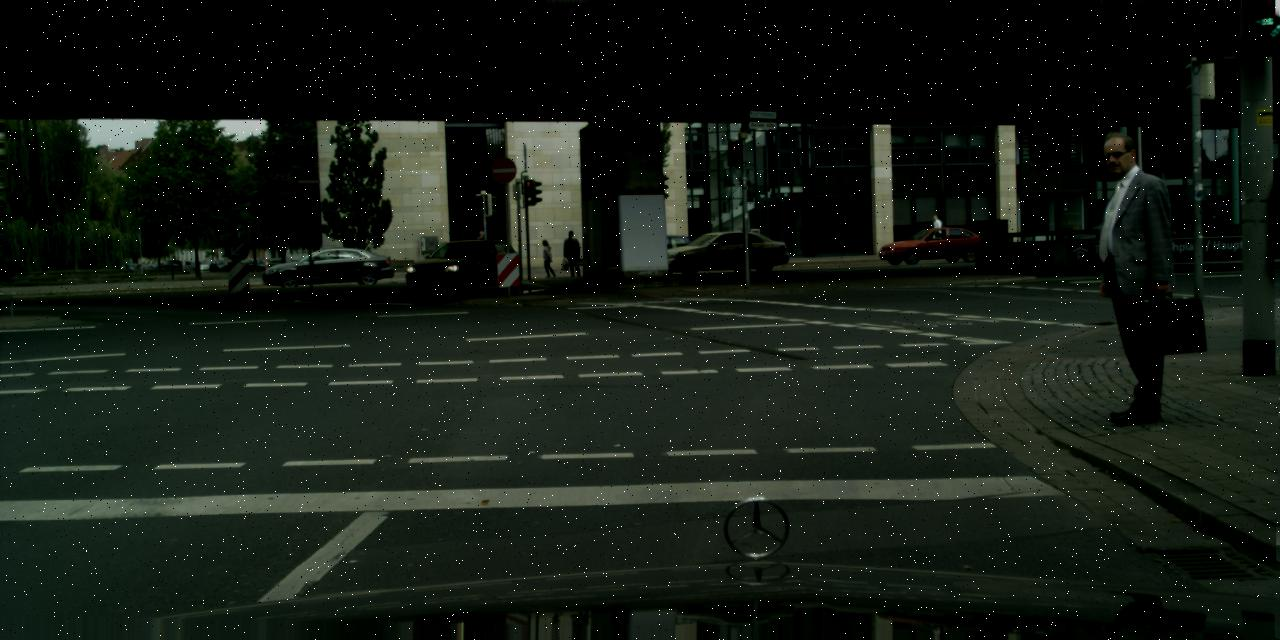ped: (1072, 134, 1190, 422), (563, 230, 582, 276), (540, 238, 556, 278), (475, 230, 488, 263), (930, 214, 942, 243)
